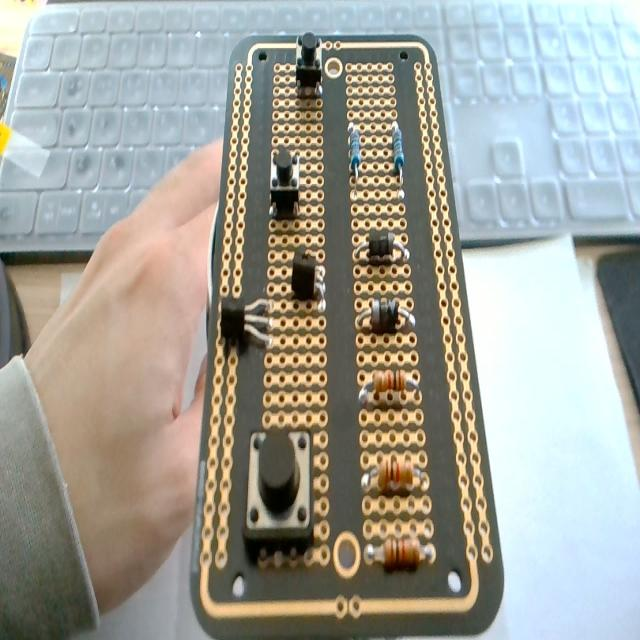diode: (357, 296, 415, 332), (355, 230, 408, 266)
resistor: (363, 458, 426, 494), (359, 372, 419, 408), (368, 538, 430, 570), (347, 122, 361, 174), (391, 120, 404, 173)
switch: (244, 425, 313, 544), (270, 145, 300, 219), (295, 32, 322, 96)
transistor: (221, 295, 275, 346), (290, 248, 326, 306)
